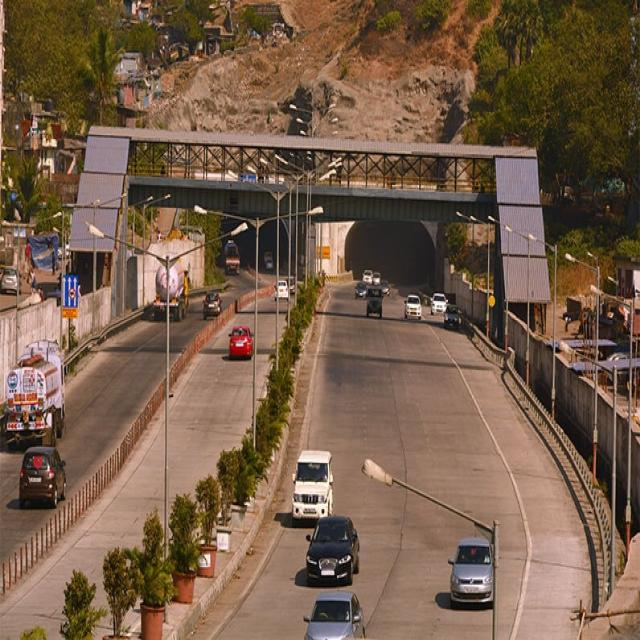car: (306, 518, 360, 585), (448, 537, 494, 606), (304, 590, 365, 640), (291, 449, 332, 521), (19, 447, 68, 507)
truck: (6, 342, 65, 446)
